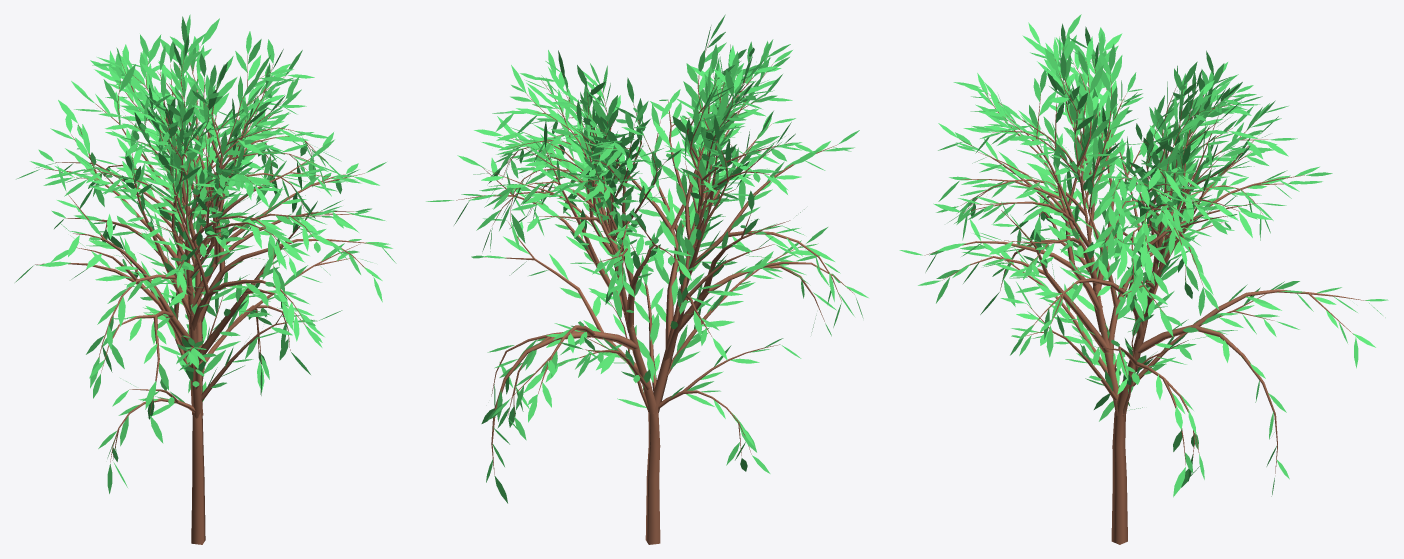
Rendered from Tree-2.fbx.
The picture shows the model from 3 angles, left to right: view 1: azimuth 30°, elevation 25°; view 2: azimuth 150°, elevation 25°; view 3: azimuth 270°, elevation 25°; orthographic projection. The views are drawn at different scales.
Parts seen in each view (by area): view 1: leaves, tree; view 2: leaves, tree; view 3: leaves, tree.
Boxes of the visible parts, bbox=[...] form: leaves: bbox=[15, 14, 396, 493]; tree: bbox=[35, 46, 377, 544]; leaves: bbox=[426, 14, 868, 503]; tree: bbox=[456, 41, 854, 544]; leaves: bbox=[899, 14, 1388, 497]; tree: bbox=[924, 38, 1366, 544].
Bounding box in the file's own units: 494 × 659 × 596.
